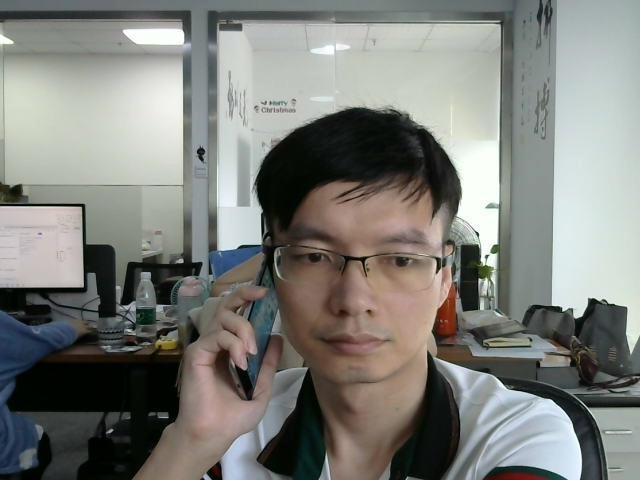hand: (185, 283, 285, 430)
